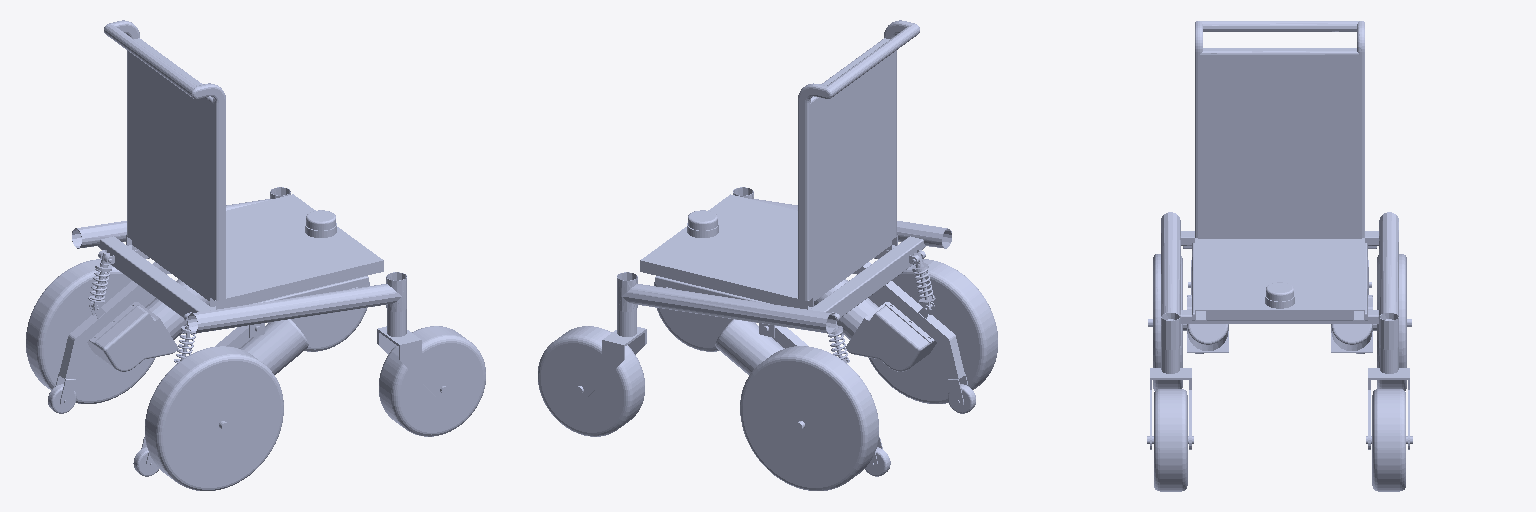
robot.urdf — wheelchair_description:
<?xml version="1.0" encoding="utf-8"?>
<!-- This URDF was automatically created by SolidWorks to URDF Exporter! Originally created by [author] ([email redacted]) 
     Commit Version: 1.6.0-1-g15f4949  Build Version: 1.6.7594.29634
     For more information, please see http://wiki.ros.org/sw_urdf_exporter -->
<robot
  name="wheelchair_description">
  <link
    name="base_footprint">
    <inertial>
      <origin
        xyz="-0.139991863457701 6.75733935251444E-07 0.437082883182207"
        rpy="0 0 0" />
      <mass
        value="21.7057319989075" />
      <inertia
        ixx="0.453001300461825"
        ixy="-3.8762258000081E-06"
        ixz="-0.0193729845601956"
        iyy="0.419651006065535"
        iyz="3.60464949435846E-06"
        izz="0.458469920465493" />
    </inertial>
    <visual>
      <origin
        xyz="0 0 0"
        rpy="0 0 0" />
      <geometry>
        <mesh
          filename="package://wheelchair_description/meshes/base_footprint.STL" />
      </geometry>
      <material
        name="">
        <color
          rgba="0.792156862745098 0.819607843137255 0.933333333333333 1" />
      </material>
    </visual>
    <collision>
      <origin
        xyz="0 0 0"
        rpy="0 0 0" />
      <geometry>
        <mesh
          filename="package://wheelchair_description/meshes/base_footprint.STL" />
      </geometry>
    </collision>
  </link>
  <link
    name="base_link">
    <inertial>
      <origin
        xyz="-0.139983617714034 -9.89516074921259E-05 0.00464176909142665"
        rpy="0 0 0" />
      <mass
        value="21.7163348741133" />
      <inertia
        ixx="0.453004630427319"
        ixy="-3.87622580000471E-06"
        ixz="-0.0193729845601956"
        iyy="0.4196513042714"
        iyz="3.6046494943572E-06"
        izz="0.458473250430987" />
    </inertial>
    <visual>
      <origin
        xyz="0 0 0"
        rpy="0 0 0" />
      <geometry>
        <mesh
          filename="package://wheelchair_description/meshes/base_link.STL" />
      </geometry>
      <material
        name="">
        <color
          rgba="0.792156862745098 0.819607843137255 0.933333333333333 1" />
      </material>
    </visual>
    <collision>
      <origin
        xyz="0 0 0"
        rpy="0 0 0" />
      <geometry>
        <mesh
          filename="package://wheelchair_description/meshes/base_link.STL" />
      </geometry>
    </collision>
  </link>
  <joint
    name="base_joint"
    type="fixed">
    <origin
      xyz="0 0 0.43240025653114"
      rpy="0 0 0" />
    <parent
      link="base_footprint" />
    <child
      link="base_link" />
    <axis
      xyz="0 0 0" />
  </joint>
  <link
    name="caster_left_link">
    <inertial>
      <origin
        xyz="0 -0.0599999999999999 0"
        rpy="0 0 0" />
      <mass
        value="4.40934690008729" />
      <inertia
        ixx="0.0210319896084761"
        ixy="1.24964759959585E-34"
        ixz="-5.70593071526157E-24"
        iyy="0.0368982021708161"
        iyz="2.35816819395541E-19"
        izz="0.0210319896084761" />
    </inertial>
    <visual>
      <origin
        xyz="0 0 0"
        rpy="0 0 0" />
      <geometry>
        <mesh
          filename="package://wheelchair_description/meshes/caster_left_link.STL" />
      </geometry>
      <material
        name="">
        <color
          rgba="0.792156862745098 0.819607843137255 0.933333333333333 1" />
      </material>
    </visual>
    <collision>
      <origin
        xyz="0 0 0"
        rpy="0 0 0" />
      <geometry>
        <mesh
          filename="package://wheelchair_description/meshes/caster_left_link.STL" />
      </geometry>
    </collision>
  </link>
  <joint
    name="caster_left_joint"
    type="continuous">
    <origin
      xyz="0.32884 0.33655 -0.3024"
      rpy="0 0 0" />
    <parent
      link="base_link" />
    <child
      link="caster_left_link" />
    <axis
      xyz="0 1 0" />
  </joint>
  <link
    name="caster_right_link">
    <inertial>
      <origin
        xyz="0 0.06 0"
        rpy="0 0 0" />
      <mass
        value="4.40934690008729" />
      <inertia
        ixx="0.0210319896084761"
        ixy="6.91510568614259E-36"
        ixz="-8.18747255294568E-24"
        iyy="0.0368982021708161"
        iyz="2.37011509461078E-19"
        izz="0.0210319896084761" />
    </inertial>
    <visual>
      <origin
        xyz="0 0 0"
        rpy="0 0 0" />
      <geometry>
        <mesh
          filename="package://wheelchair_description/meshes/caster_right_link.STL" />
      </geometry>
      <material
        name="">
        <color
          rgba="0.792156862745098 0.819607843137255 0.933333333333333 1" />
      </material>
    </visual>
    <collision>
      <origin
        xyz="0 0 0"
        rpy="0 0 0" />
      <geometry>
        <mesh
          filename="package://wheelchair_description/meshes/caster_right_link.STL" />
      </geometry>
    </collision>
  </link>
  <joint
    name="caster_right_joint"
    type="continuous">
    <origin
      xyz="0.32884 -0.33655 -0.3024"
      rpy="0 0 0" />
    <parent
      link="base_link" />
    <child
      link="caster_right_link" />
    <axis
      xyz="0 1 0" />
  </joint>
  <link
    name="wheel_left_link">
    <inertial>
      <origin
        xyz="0 -0.0515 0"
        rpy="0 0 0" />
      <mass
        value="7.16080210982417" />
      <inertia
        ixx="0.0580966446914577"
        ixy="4.23516473627149E-19"
        ixz="4.06548409898825E-23"
        iyy="0.109587758725363"
        iyz="-1.07273615672581E-18"
        izz="0.0580966446914578" />
    </inertial>
    <visual>
      <origin
        xyz="0 0 0"
        rpy="0 0 0" />
      <geometry>
        <mesh
          filename="package://wheelchair_description/meshes/wheel_left_link.STL" />
      </geometry>
      <material
        name="">
        <color
          rgba="0.792156862745098 0.819607843137255 0.933333333333333 1" />
      </material>
    </visual>
    <collision>
      <origin
        xyz="0 0 0"
        rpy="0 0 0" />
      <geometry>
        <mesh
          filename="package://wheelchair_description/meshes/wheel_left_link.STL" />
      </geometry>
    </collision>
  </link>
  <joint
    name="wheel_left_joint"
    type="continuous">
    <origin
      xyz="-0.27524 0.33475 -0.2569"
      rpy="0 0 0" />
    <parent
      link="base_link" />
    <child
      link="wheel_left_link" />
    <axis
      xyz="0 1 0" />
  </joint>
  <link
    name="wheel_right_link">
    <inertial>
      <origin
        xyz="-3.46944695195361E-18 0.0515 0"
        rpy="0 0 0" />
      <mass
        value="7.16080210982418" />
      <inertia
        ixx="0.0580966446914578"
        ixy="2.57023677514845E-19"
        ixz="4.06548409906529E-23"
        iyy="0.109587758725363"
        iyz="-1.07273719070158E-18"
        izz="0.0580966446914578" />
    </inertial>
    <visual>
      <origin
        xyz="0 0 0"
        rpy="0 0 0" />
      <geometry>
        <mesh
          filename="package://wheelchair_description/meshes/wheel_right_link.STL" />
      </geometry>
      <material
        name="">
        <color
          rgba="0.792156862745098 0.819607843137255 0.933333333333333 1" />
      </material>
    </visual>
    <collision>
      <origin
        xyz="0 0 0"
        rpy="0 0 0" />
      <geometry>
        <mesh
          filename="package://wheelchair_description/meshes/wheel_right_link.STL" />
      </geometry>
    </collision>
  </link>
  <joint
    name="wheel_right_joint"
    type="continuous">
    <origin
      xyz="-0.27524 -0.33525 -0.2569"
      rpy="0 0 0" />
    <parent
      link="base_link" />
    <child
      link="wheel_right_link" />
    <axis
      xyz="0 1 0" />
  </joint>
  <link
    name="base_scan">
    <inertial>
      <origin
        xyz="-5.55111512312578E-17 -2.77555756156289E-17 -0.02097145719459"
        rpy="0 0 0" />
      <mass
        value="0.173952291044052" />
      <inertia
        ixx="8.31356173880308E-05"
        ixy="2.28992257697359E-26"
        ixz="-3.42872385677473E-21"
        iyy="8.31356173880308E-05"
        iyz="1.14659736808138E-21"
        izz="0.000118430701922264" />
    </inertial>
    <visual>
      <origin
        xyz="0 0 0"
        rpy="0 0 0" />
      <geometry>
        <mesh
          filename="package://wheelchair_description/meshes/base_scan.STL" />
      </geometry>
      <material
        name="">
        <color
          rgba="0.792156862745098 0.819607843137255 0.933333333333333 1" />
      </material>
    </visual>
    <collision>
      <origin
        xyz="0 0 0"
        rpy="0 0 0" />
      <geometry>
        <mesh
          filename="package://wheelchair_description/meshes/base_scan.STL" />
      </geometry>
    </collision>
  </link>
  <joint
    name="scan_joint"
    type="fixed">
    <origin
      xyz="0.18225 0 0.0548"
      rpy="0 0 0" />
    <parent
      link="base_link" />
    <child
      link="base_scan" />
    <axis
      xyz="0 0 0" />
  </joint>
</robot>

--- What the picture shows (computed from the rendered views, not written in the file) ---
The picture shows the robot from 3 angles, left to right: view 1: azimuth 30°, elevation 25°; view 2: azimuth 150°, elevation 25°; view 3: azimuth 270°, elevation 25°; orthographic projection.
Robot: wheelchair_description — 7 links, 6 joints (4 continuous, 2 fixed); root link base_footprint; default pose: every joint at zero.
Visible links, largest first — view 1: base_footprint, wheel_right_link, base_link, wheel_left_link, caster_right_link, caster_left_link, base_scan; view 2: base_footprint, wheel_left_link, base_link, wheel_right_link, caster_left_link, caster_right_link, base_scan; view 3: base_footprint, base_link, caster_left_link, caster_right_link, wheel_left_link, wheel_right_link, base_scan.
Link boxes in pixels (x1,y1,x2,y2): base_footprint: [48, 20, 452, 476]; wheel_right_link: [145, 346, 283, 490]; base_link: [49, 25, 451, 475]; wheel_left_link: [26, 259, 155, 403]; caster_right_link: [379, 326, 485, 436]; caster_left_link: [268, 282, 369, 351]; base_scan: [305, 210, 336, 237]; base_footprint: [571, 20, 975, 476]; wheel_left_link: [740, 346, 878, 490]; base_link: [572, 27, 973, 471]; wheel_right_link: [868, 259, 997, 403]; caster_left_link: [538, 326, 644, 436]; caster_right_link: [654, 282, 732, 351]; base_scan: [687, 210, 718, 237]; base_footprint: [1147, 21, 1412, 449]; base_link: [1150, 29, 1409, 439]; caster_left_link: [1372, 389, 1405, 491]; caster_right_link: [1154, 389, 1187, 491]; wheel_left_link: [1377, 254, 1406, 390]; wheel_right_link: [1153, 254, 1182, 390]; base_scan: [1265, 282, 1294, 308].
Size in the robot's own frame: 0.9094 by 0.6731 by 1.02 metres.
7 mesh visuals loaded from 7 distinct referenced files (7 binary STL).